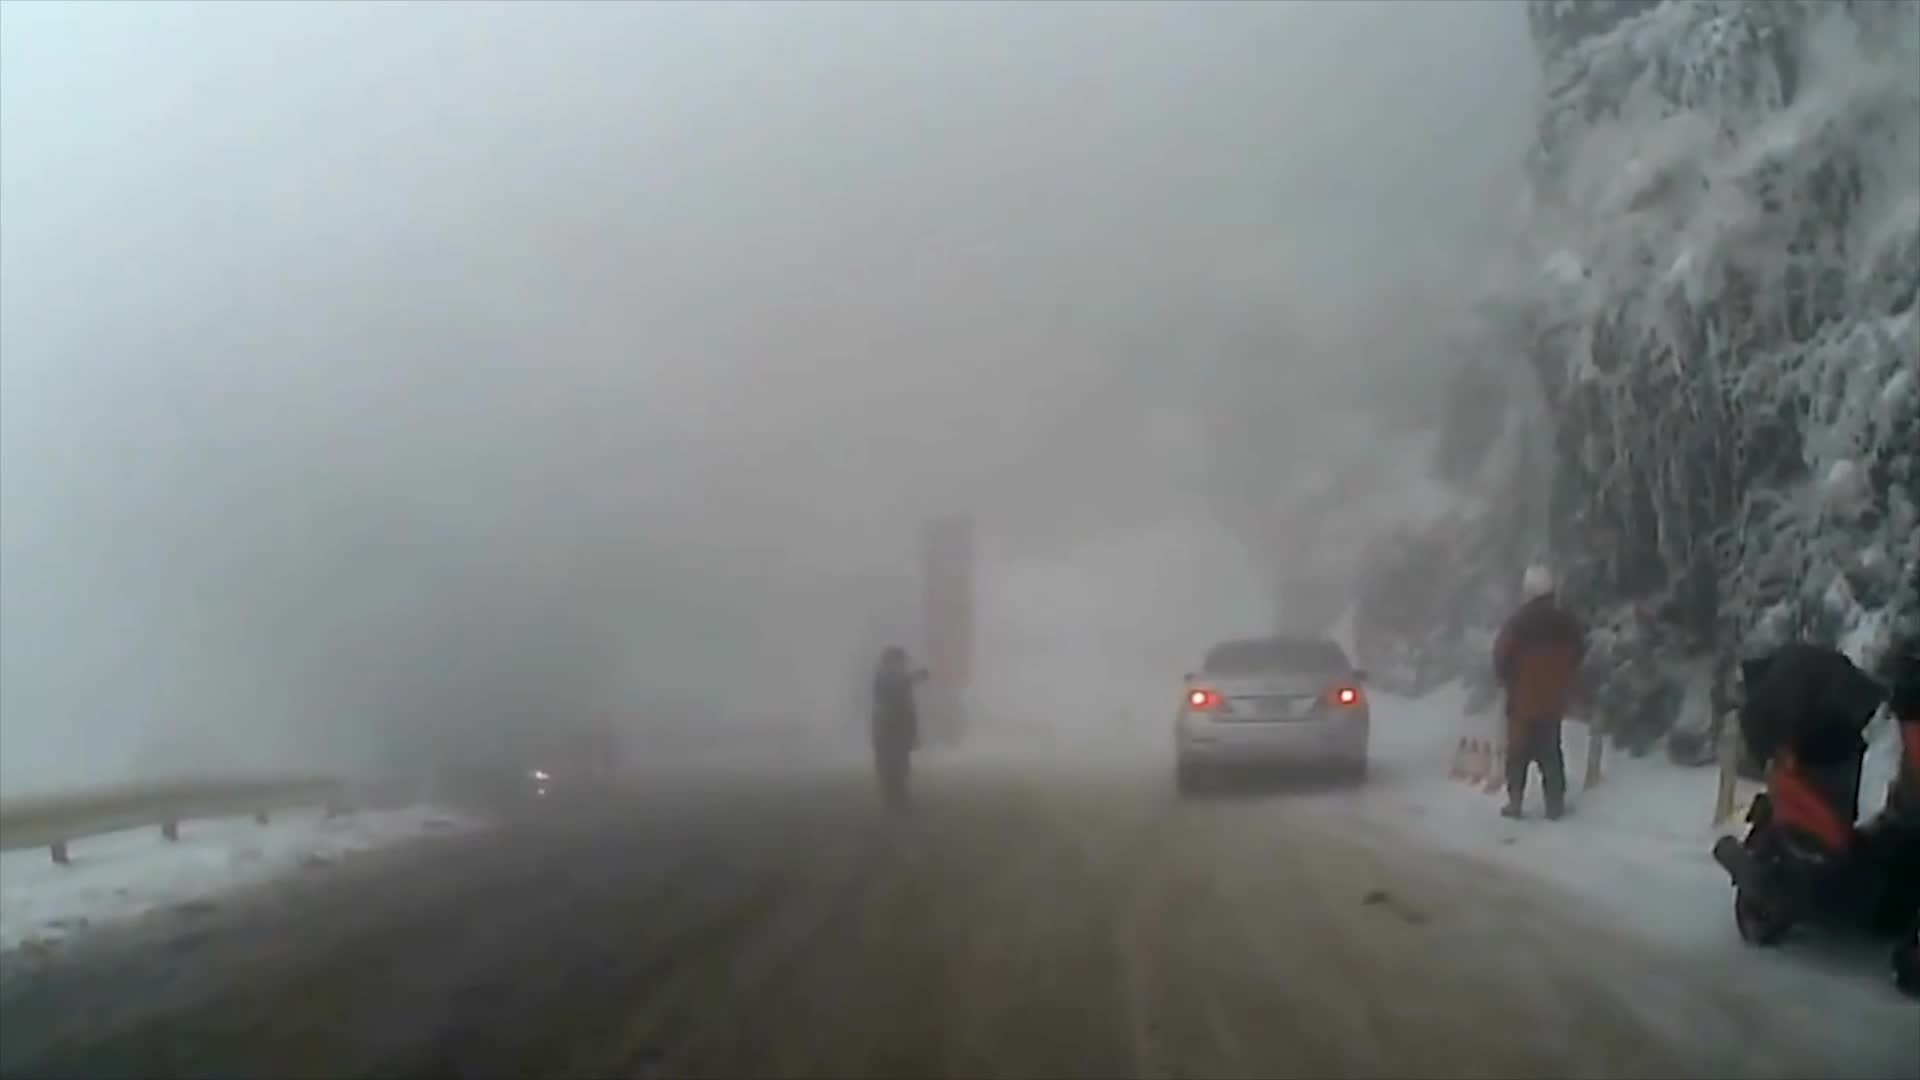pedestrian: (1493, 557, 1599, 822), (870, 643, 934, 815)
vehicle: (1172, 634, 1371, 798)
